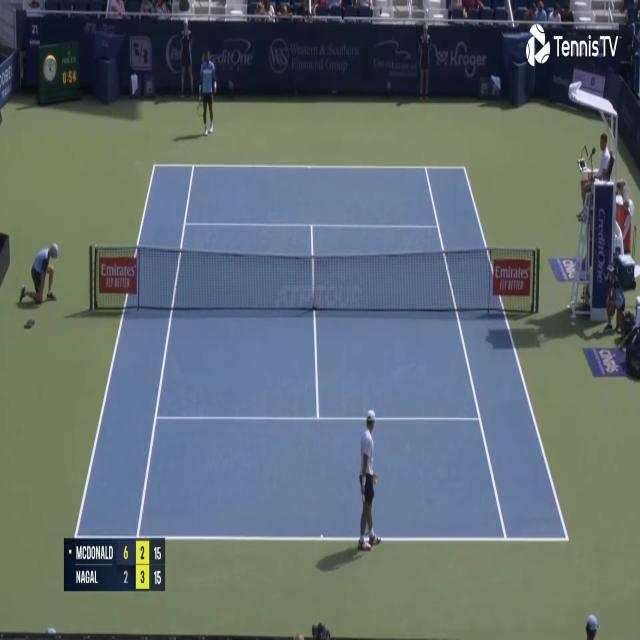tennis-player: (354, 405, 383, 556), (195, 48, 218, 137)
